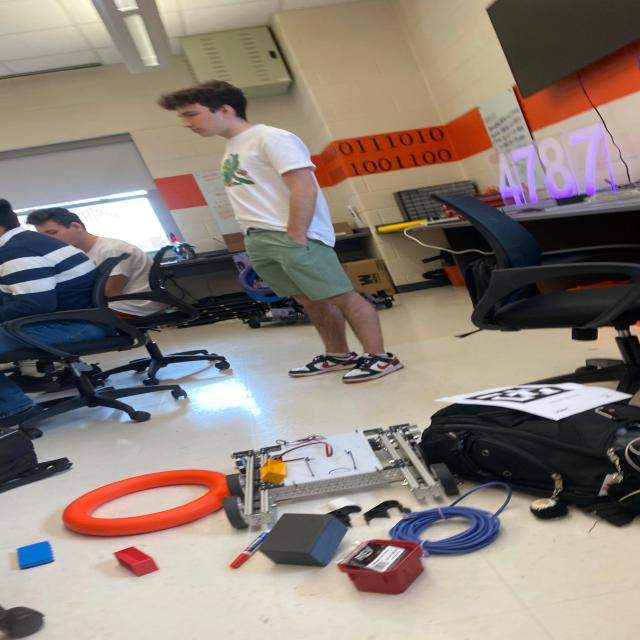red-specimen: (137, 552, 156, 569), (119, 553, 130, 569), (129, 548, 135, 570)
yellow-specimen: (260, 459, 287, 484)
